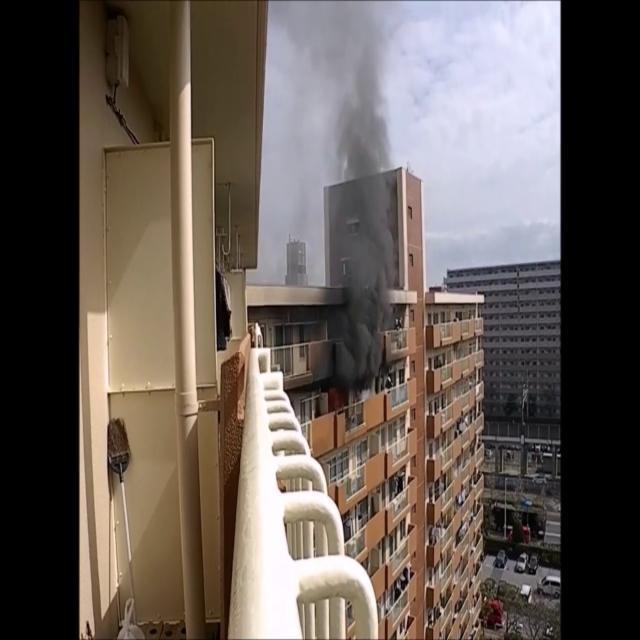Smoke: (313, 22, 399, 390)
